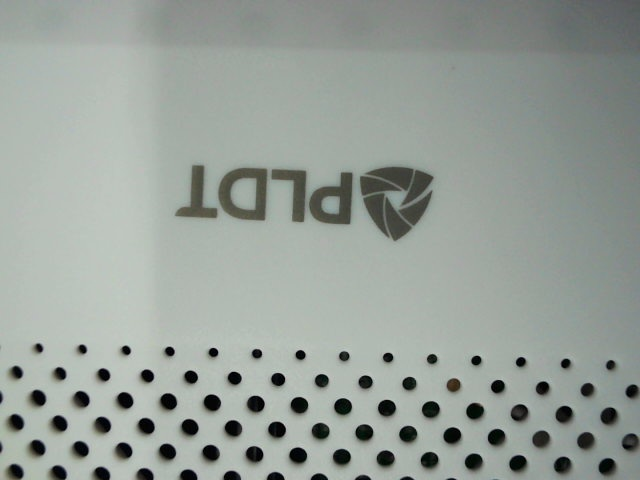BH_PLDT: (169, 146, 450, 260)
